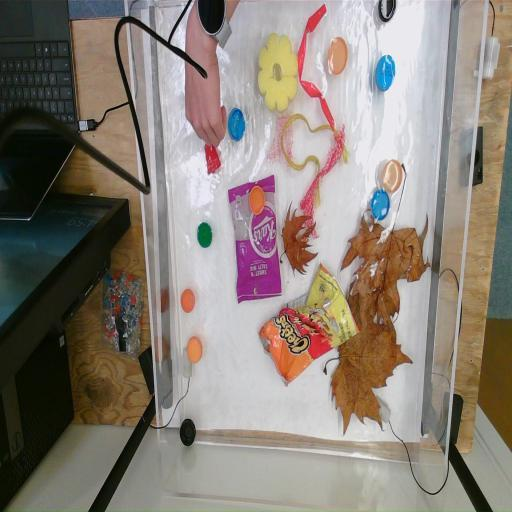Bottle Cap: (375, 53, 396, 92), (328, 37, 348, 76), (382, 161, 404, 193), (370, 188, 390, 222), (228, 108, 246, 140), (179, 419, 198, 448), (186, 336, 202, 364), (250, 186, 264, 216), (197, 222, 213, 248), (180, 288, 196, 314), (379, 0, 397, 22)
Cone Cap: (204, 144, 222, 176)
Leaf: (323, 290, 413, 438), (342, 208, 429, 330), (280, 204, 316, 278)
Netting: (301, 124, 346, 238), (266, 114, 295, 174)
Plastic Bag: (255, 262, 359, 384), (228, 174, 282, 298)
Plastic Strand: (282, 115, 350, 207), (296, 4, 336, 132)
Sponge: (258, 32, 298, 110)
